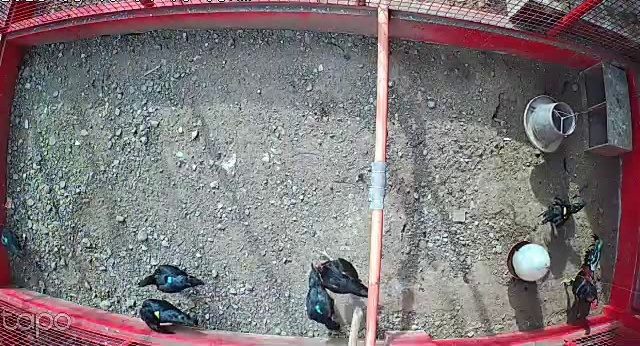Chicken: (293, 264, 346, 333), (309, 247, 369, 302), (134, 296, 203, 337), (133, 259, 207, 297), (537, 193, 586, 230)
Rooster: (561, 233, 609, 310)
Saddle_Color_Blue: (166, 274, 174, 284)
Saddle_Color_Yellow: (155, 310, 161, 318), (563, 207, 568, 214)
